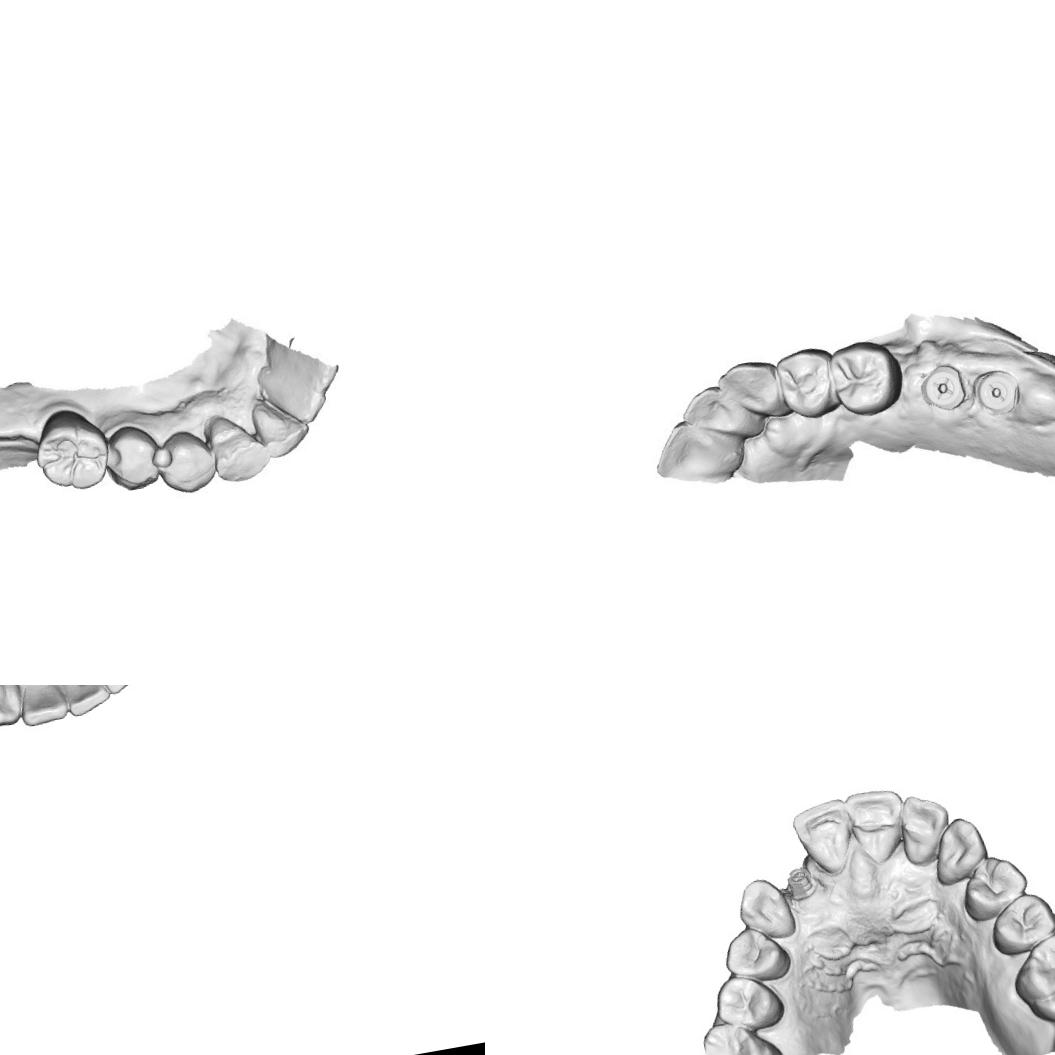canine: (200, 408, 269, 487), (924, 812, 993, 888), (716, 358, 786, 426), (732, 872, 798, 944), (0, 685, 26, 736)
implant: (784, 864, 819, 901)
implant_minus: (972, 363, 1018, 413)
implant_plus: (918, 356, 968, 416)
incisor: (643, 415, 743, 488), (788, 796, 860, 882), (842, 784, 912, 870), (677, 384, 762, 448), (894, 789, 956, 867), (249, 392, 313, 460), (14, 685, 73, 729), (61, 685, 113, 717), (91, 685, 149, 700)
molar: (29, 408, 111, 494), (823, 333, 901, 420), (1004, 925, 1055, 1028), (775, 346, 839, 416)
premolar: (954, 850, 1034, 924), (718, 918, 795, 988), (710, 968, 788, 1036), (984, 888, 1055, 958), (153, 429, 218, 498), (104, 422, 162, 493)
